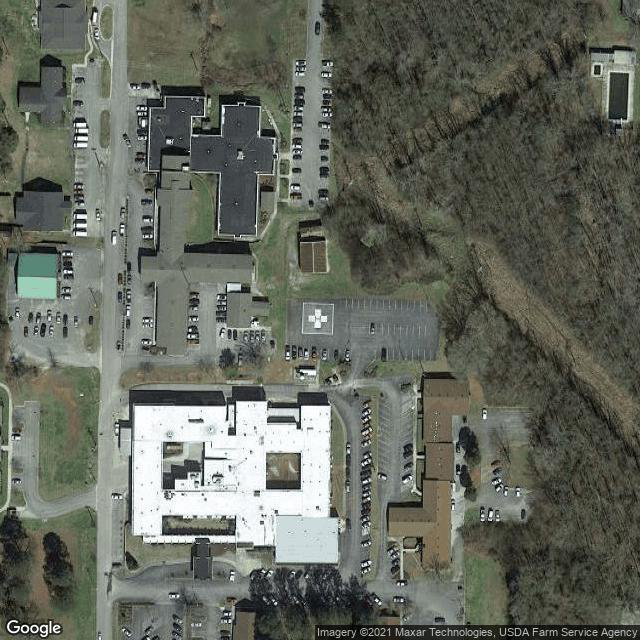Helipad: (302, 302, 334, 335)
